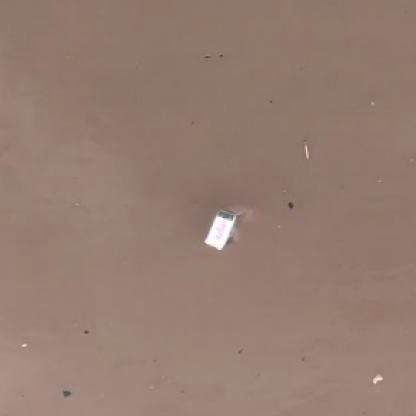Trash: (200, 206, 240, 259)
